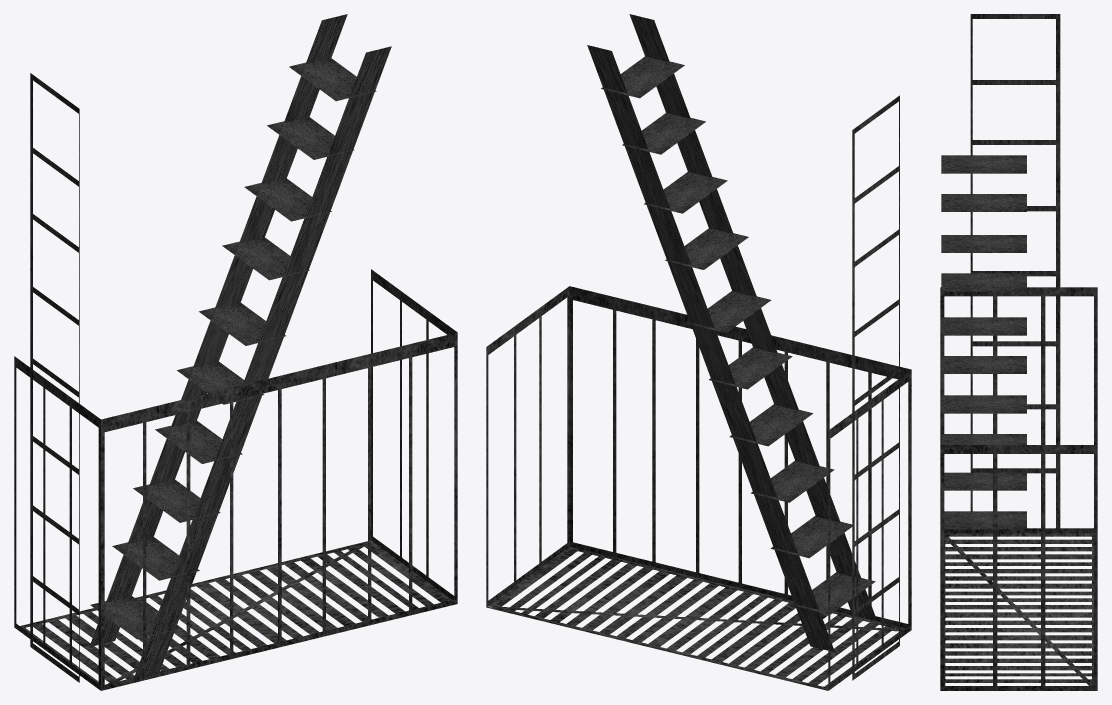
File: prop.obj
The picture shows the model from 3 angles, left to right: view 1: azimuth 30°, elevation 25°; view 2: azimuth 150°, elevation 25°; view 3: azimuth 270°, elevation 25°; orthographic projection. The views are drawn at different scales.
Visible parts, largest first — view 1: prop.png; view 2: prop.png; view 3: prop.png.
Part boxes in pixels (bbox=[...]): prop.png: bbox=[14, 14, 457, 690]; prop.png: bbox=[486, 14, 911, 690]; prop.png: bbox=[940, 14, 1097, 690].
Bounding box in the file's own units: 3.21 × 4.89 × 1.34.
1 material, 1 textured.
